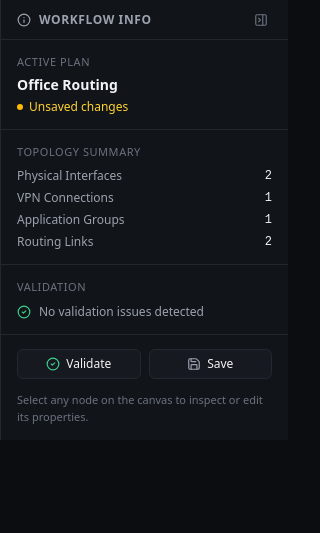
PropertiesPanel › hides and restores the right sidebar via toggle button and reopens on node click
Earlier steps of the test are not shown.
Click the button named "Hide right sidebar".
click(261, 20)  # box 250,8 -> 272,30
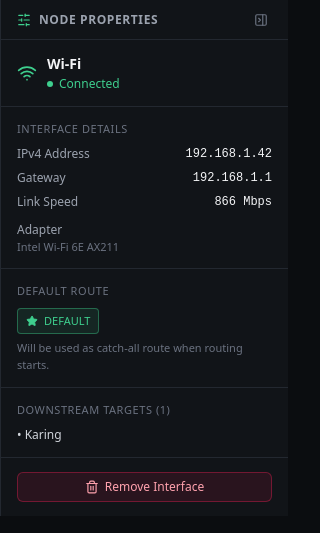
Result: the element labelled "Node Properties" is shown
